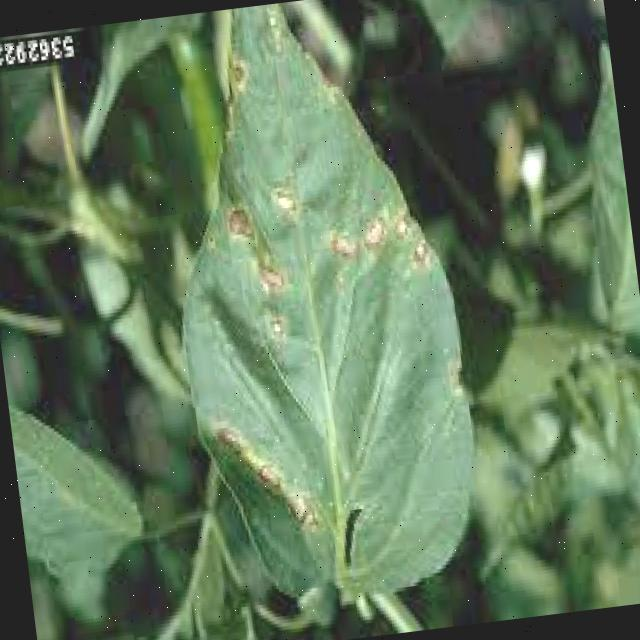leaf spot: (134, 0, 501, 629)
